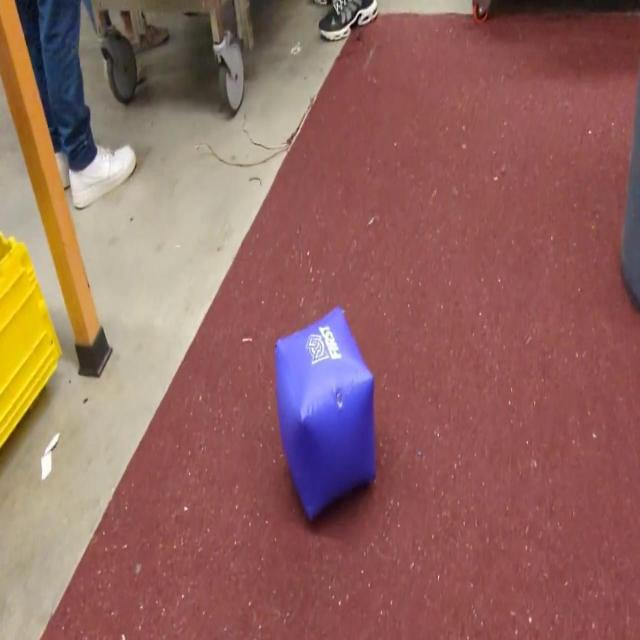frc_cube: (274, 304, 375, 526)
